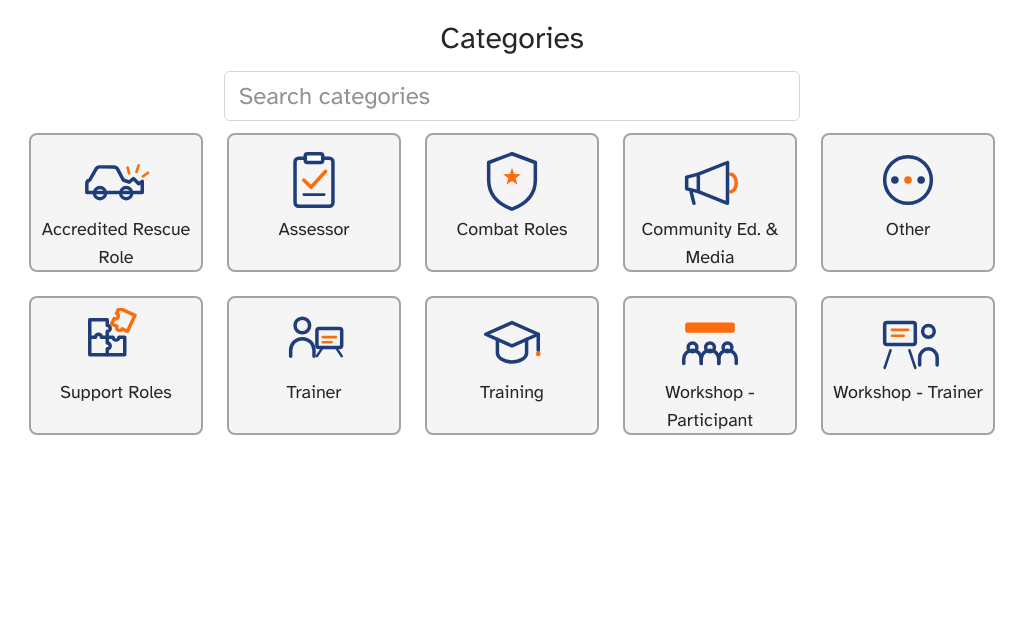
Scenario: ScanScreenCategories search › inside a role › returns to the tiles of that role when the box is emptied
Click the button "Training": [512, 366] box [425,296,599,435]
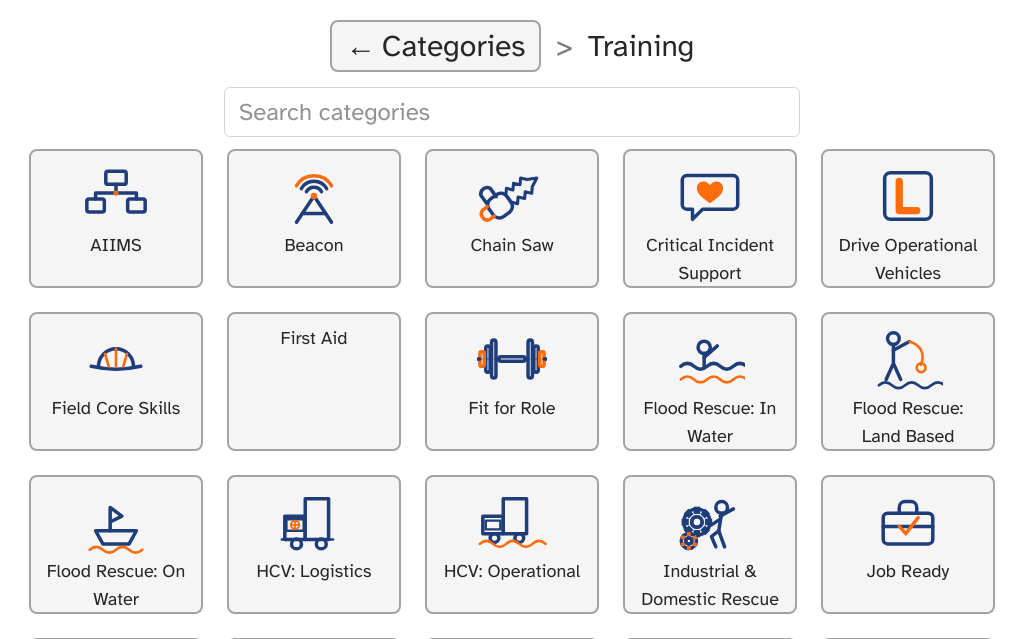
In the search field: [512, 112] box [224,87,800,137], type "stor"
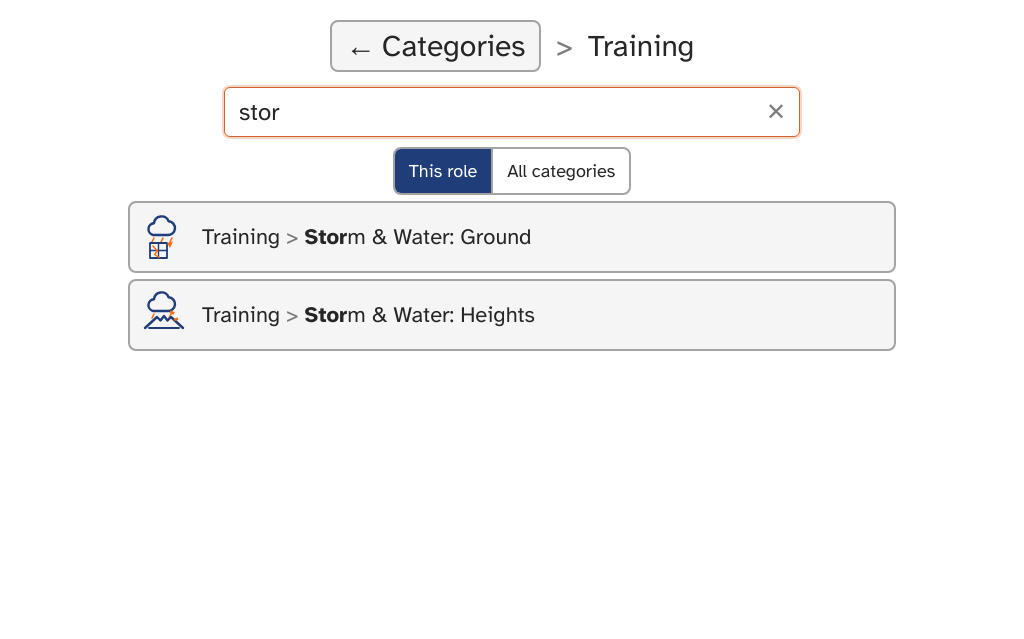
Click the button named "Clear search": [776, 112] box [752,87,800,137]
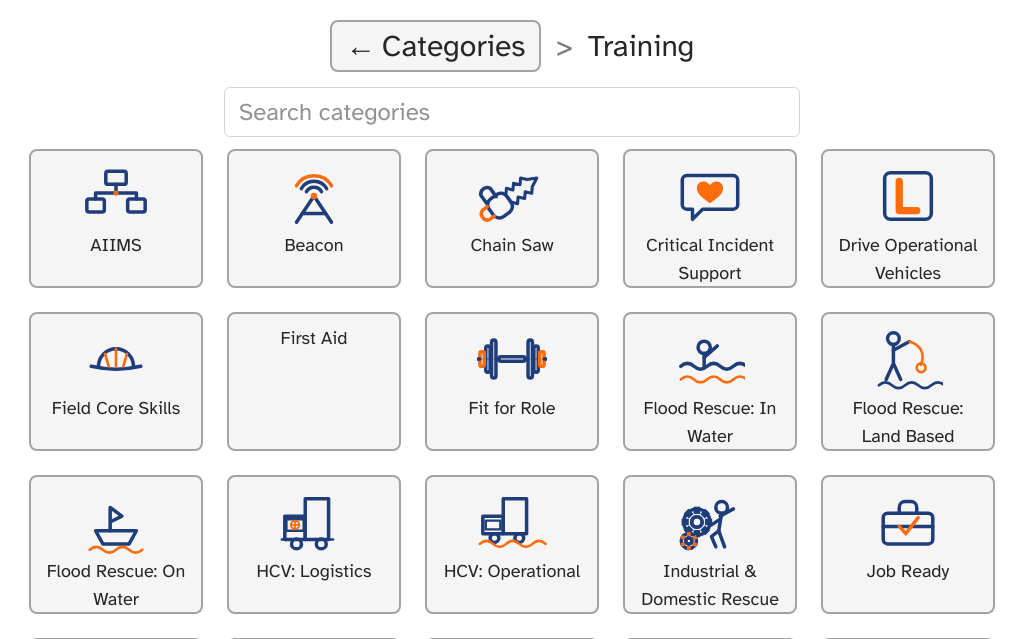
Check: the text "Training" is shown, box [588,28,694,64]
Check: the button "AIIMS" is shown, box [29,149,203,288]
